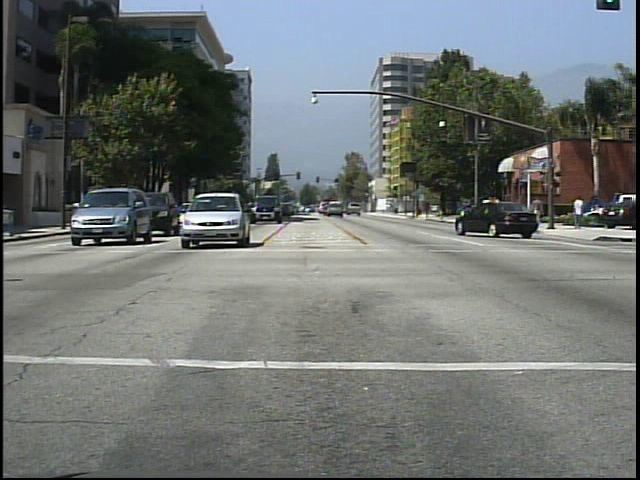person: (529, 192, 548, 232), (571, 192, 586, 232)
